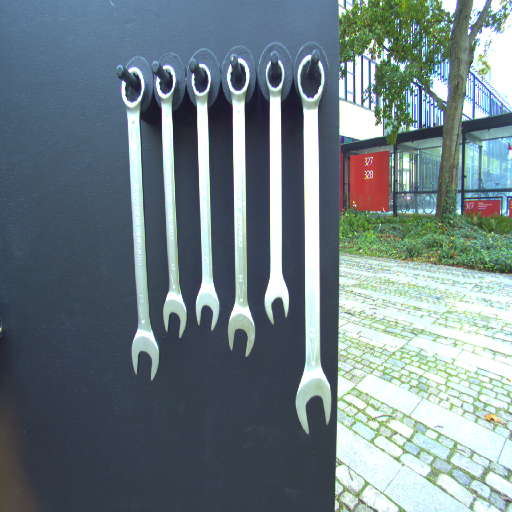bottom: (293, 370, 332, 435), (130, 328, 163, 383), (226, 302, 256, 358), (192, 283, 219, 332), (161, 292, 189, 339), (265, 280, 289, 325)
top: (295, 55, 325, 107), (119, 66, 146, 109), (225, 56, 252, 99), (187, 61, 213, 101), (153, 63, 177, 106), (264, 54, 286, 95)
